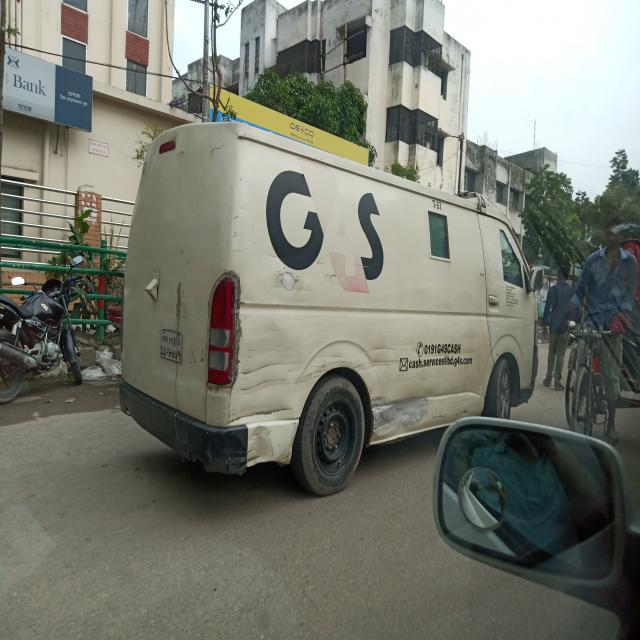microbus: (114, 99, 545, 496)
motorbike: (0, 243, 96, 418)
